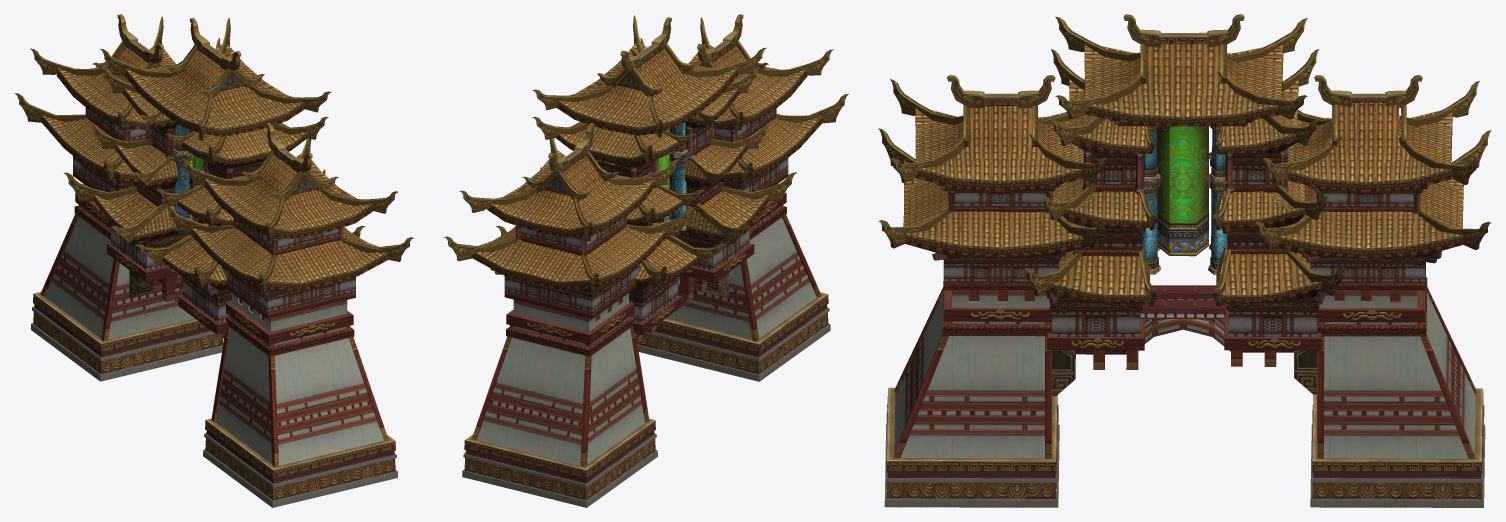
Rendered from Yland1_t_02 Yland1.FBX.
3 renders of one model, left to right at view 1: azimuth 30°, elevation 25°; view 2: azimuth 150°, elevation 25°; view 3: azimuth 270°, elevation 25°, orthographic. The views are drawn at different scales.
Parts seen in each view (by area): view 1: Yland1_t_02 Yland1; view 2: Yland1_t_02 Yland1; view 3: Yland1_t_02 Yland1.
Boxes of the visible parts, x1,y1,x2,y2 form: Yland1_t_02 Yland1: (14,14,413,507); Yland1_t_02 Yland1: (444,14,848,507); Yland1_t_02 Yland1: (878,14,1491,507).
Bounding box in the file's own units: 10.68 × 20.36 × 24.85.
